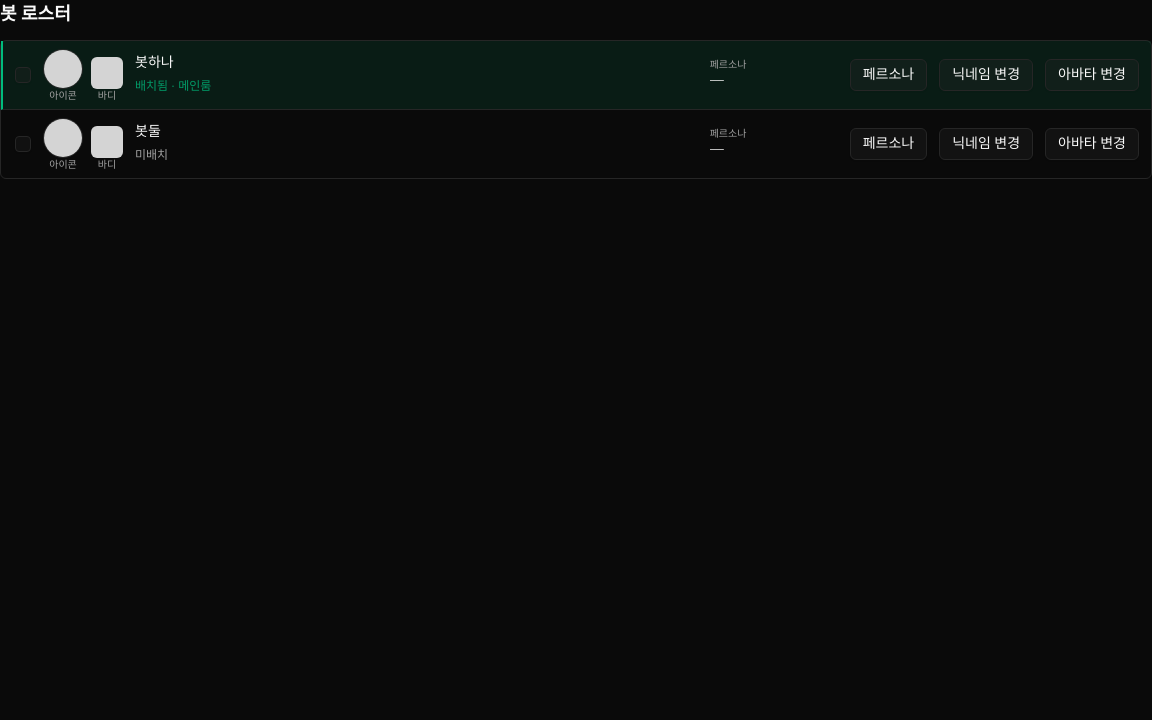
Test: BotRoster › 닉네임 변경 버튼 → 다이얼로그(현재 닉 프리필) → 저장 시 PUT 호출
Later steps or results of the test are not shown.
Expected: the text "봇하나" is shown, x1=135 y1=55 x2=174 y2=70
Click the button "닉네임 변경" in the row of "봇하나": [986, 75] box x1=939 y1=59 x2=1033 y2=91
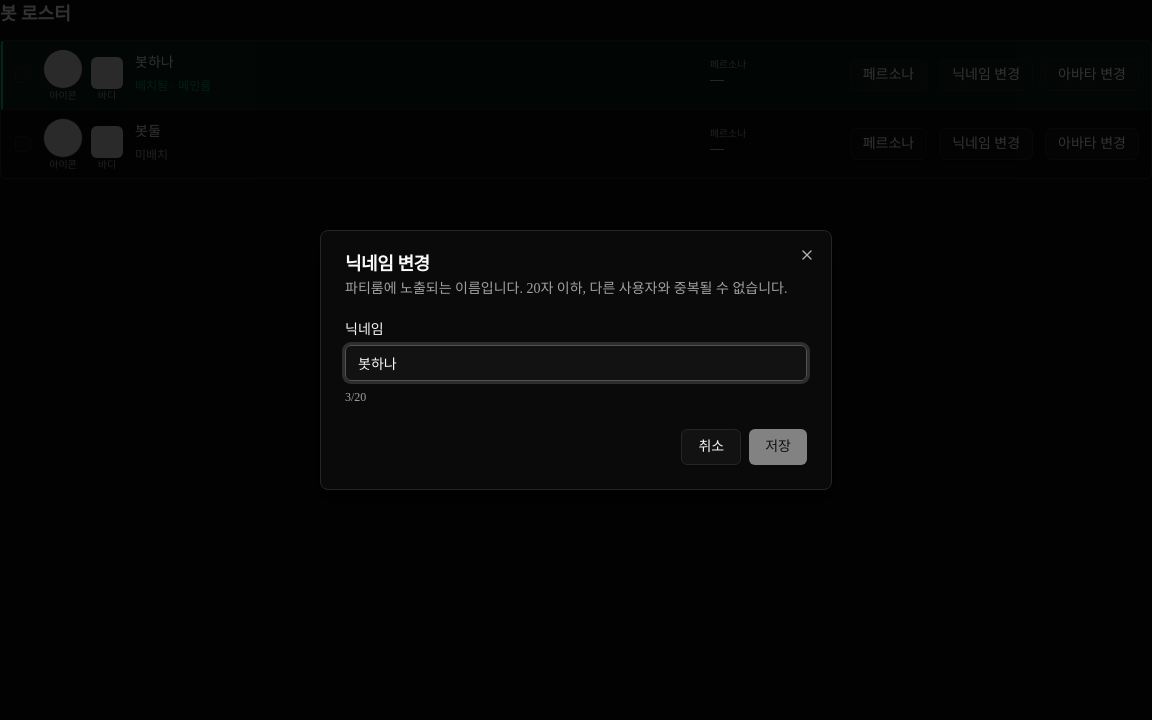
Expected: the field labelled "닉네임" holds "봇하나", x1=345 y1=345 x2=807 y2=381
